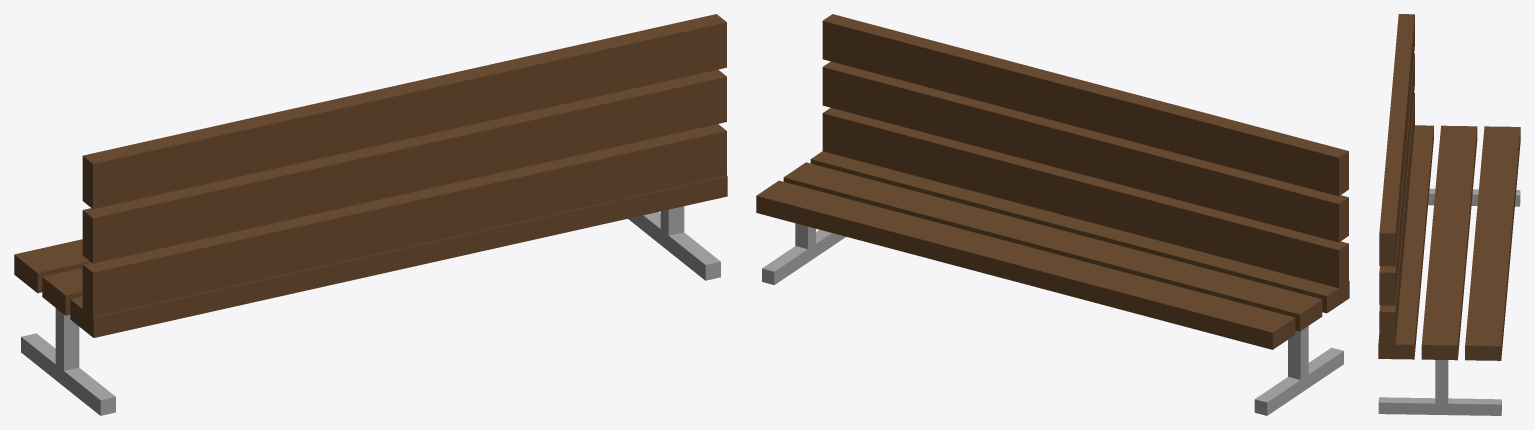
File: bench.fbx
3 renders of one model, left to right at view 1: azimuth 30°, elevation 25°; view 2: azimuth 150°, elevation 25°; view 3: azimuth 270°, elevation 25°, orthographic. The views are drawn at different scales.
Parts seen in each view (by area): view 1: bench; view 2: bench; view 3: bench.
Part boxes in pixels (x1,y1,x2,y2): bench: (14, 14, 727, 415); bench: (756, 14, 1349, 415); bench: (1378, 14, 1520, 415).
Size of the model in its own units: 184 by 70.9 by 49.92.
